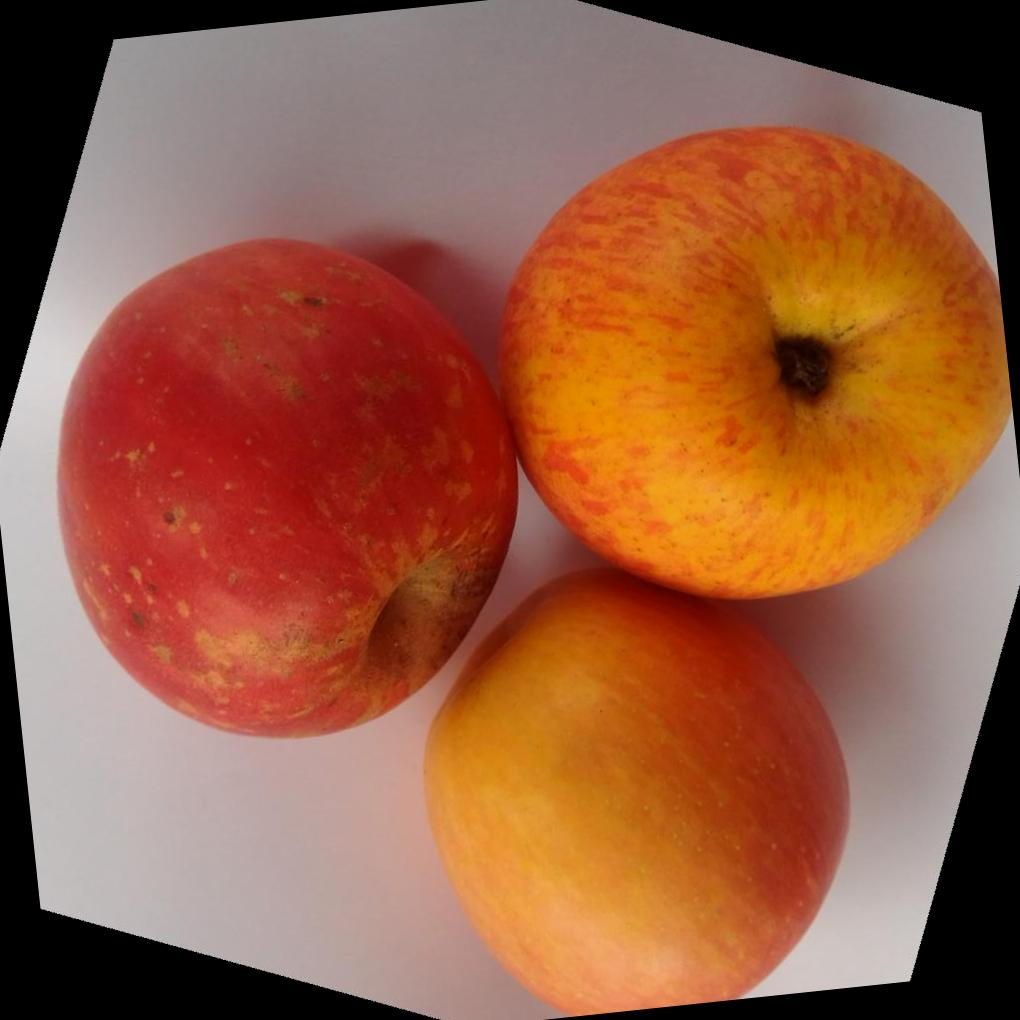FreshGuava: (51, 124, 1012, 1017)
